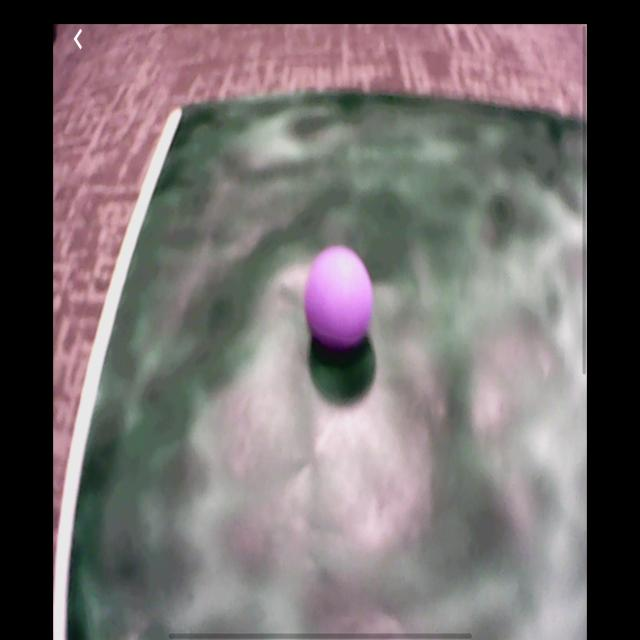ball: (307, 248, 374, 354)
